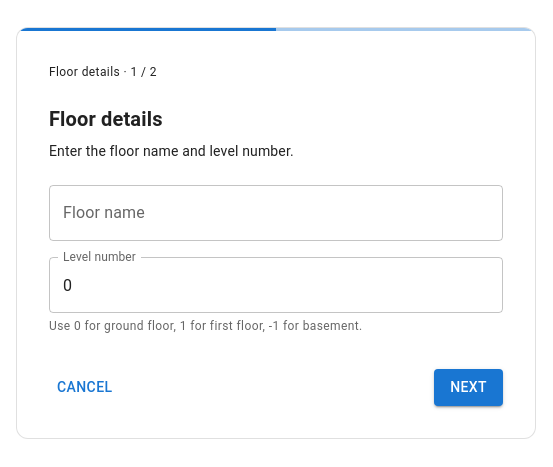
FloorCreationFlow › blocks advance with empty name
Click the button "Next" at coordinates (469, 387), box [434,369,503,406]
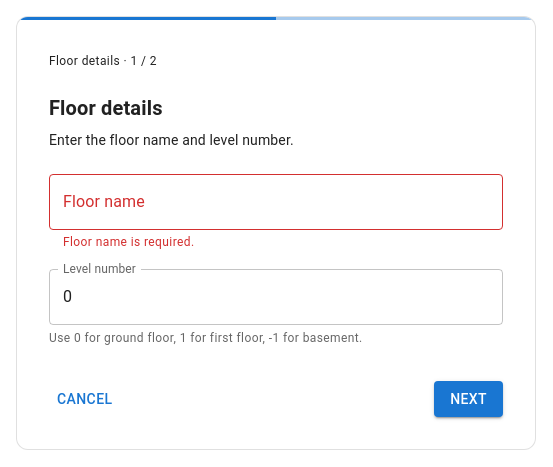
Expected: the text "Floor name is required." is shown, [63,235,194,249]
